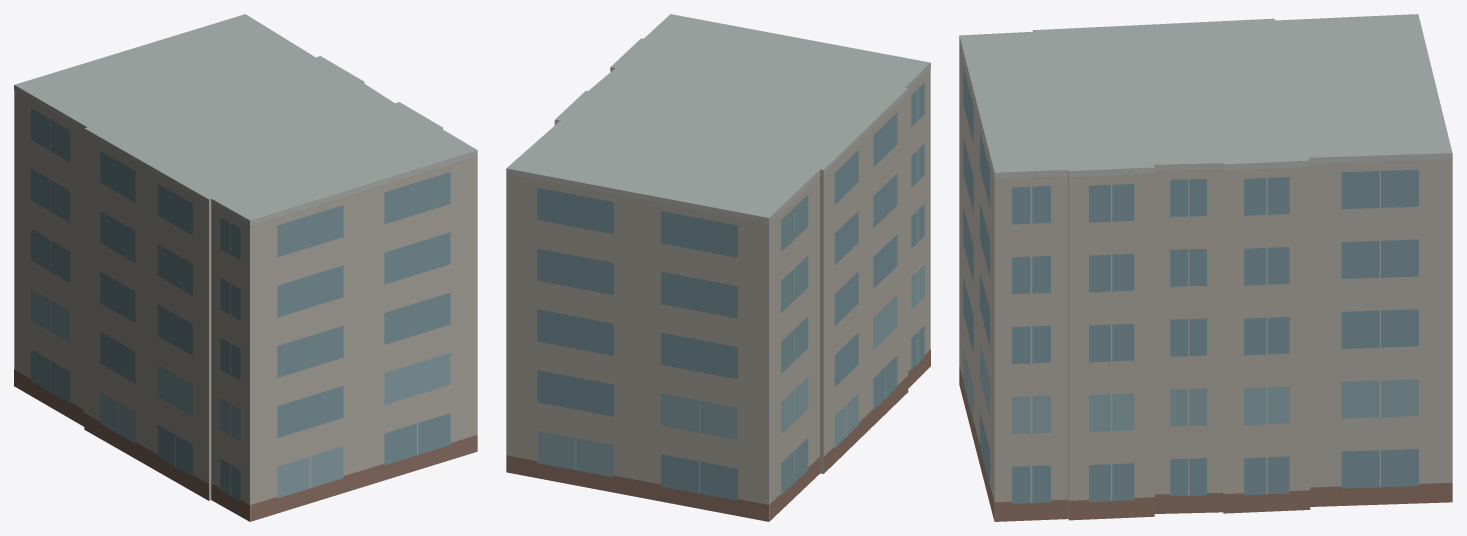
File: survey-upis-32975267.glb
The picture shows the model from 3 angles, left to right: view 1: azimuth 30°, elevation 25°; view 2: azimuth 150°, elevation 25°; view 3: azimuth 270°, elevation 25°; orthographic projection. The views are drawn at different scales.
Visible parts, largest first — view 1: survey-upis-32975267.tmp; view 2: survey-upis-32975267.tmp; view 3: survey-upis-32975267.tmp.
Part boxes in pixels (box(x1,y1,x2,y2)): survey-upis-32975267.tmp: box(14, 14, 477, 521); survey-upis-32975267.tmp: box(506, 14, 930, 521); survey-upis-32975267.tmp: box(959, 14, 1452, 521).
Bounding box in the file's own units: 13.46 × 13.8 × 17.67.
